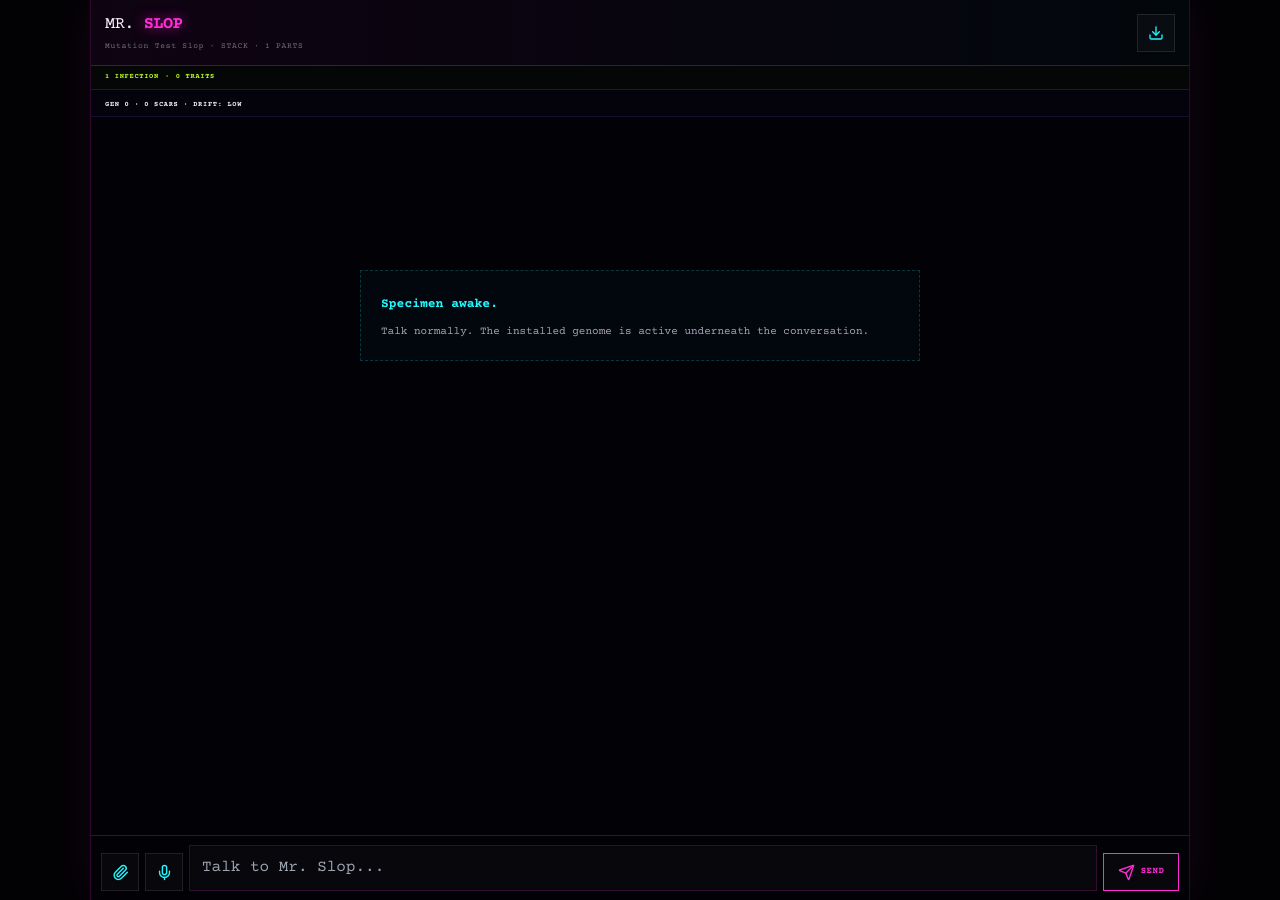
Test: Mr. Slop mutation UI and lifecycle › decrements exactly once after a successful accepted reply
Type "hello" into the text box with placeholder "Talk to Mr. Slop..." at (643, 868), box [189,845,1097,891]
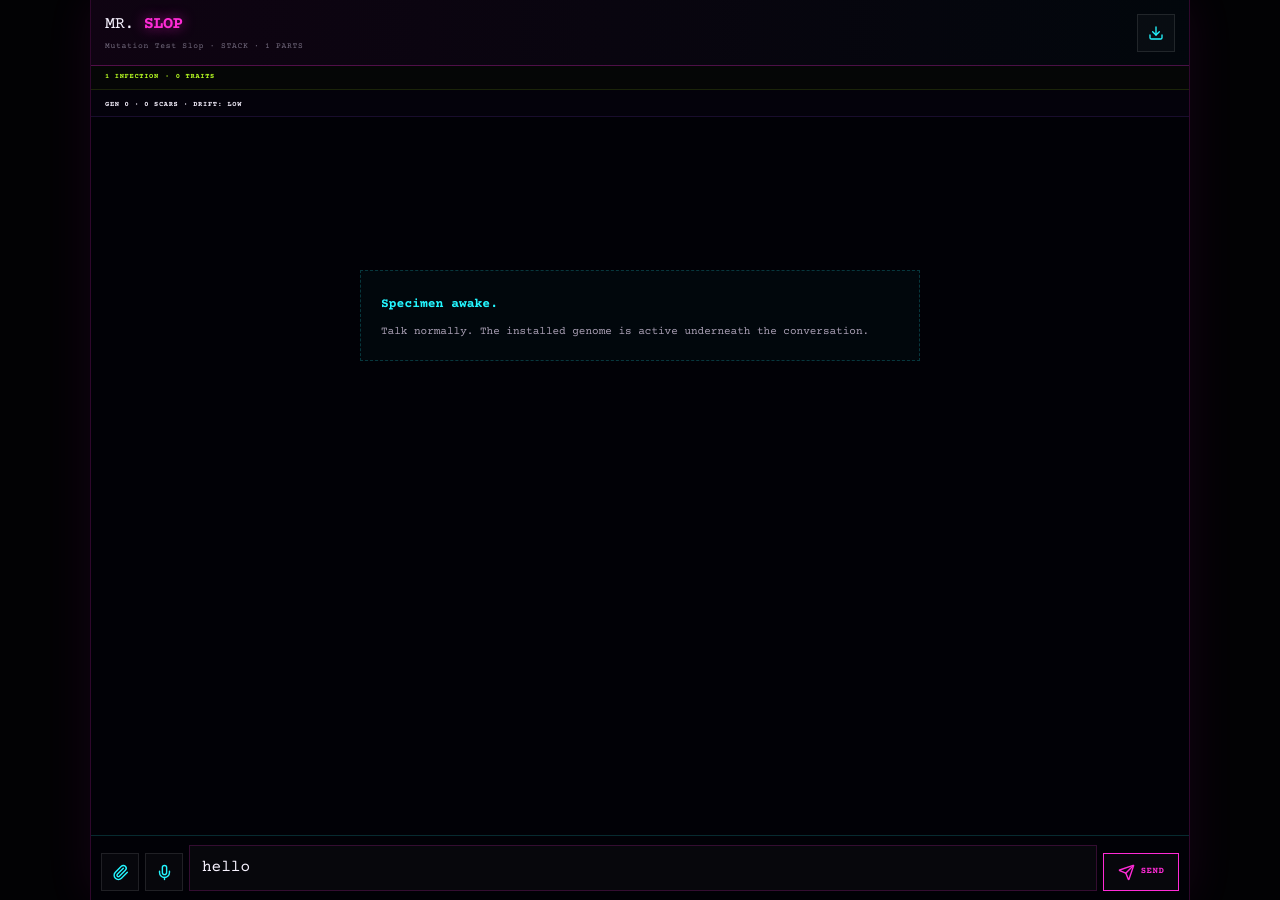
Click the button "SEND" at (1141, 872), box [1103,853,1179,891]
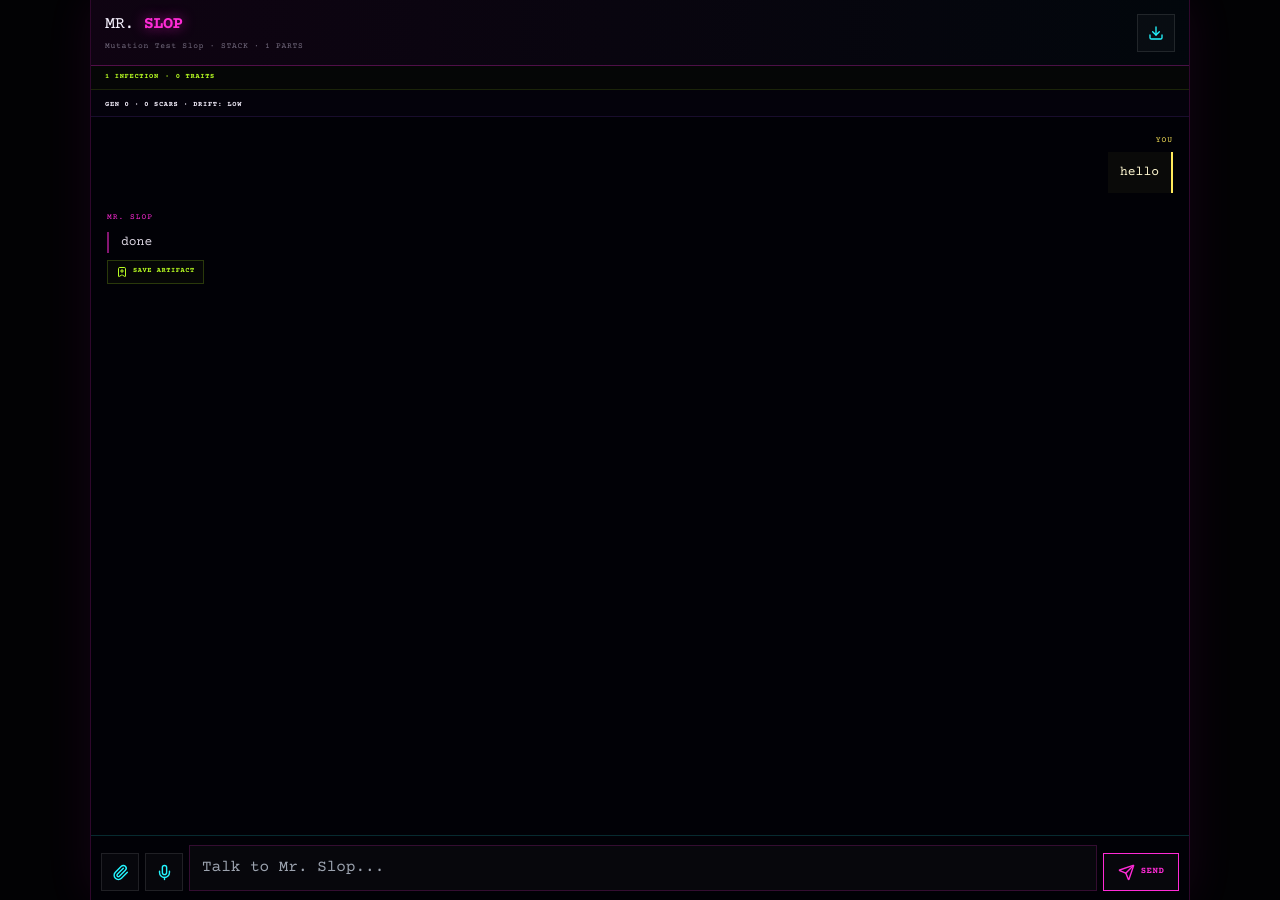
expect the text "done" is shown: met, box [121,234,152,248]
